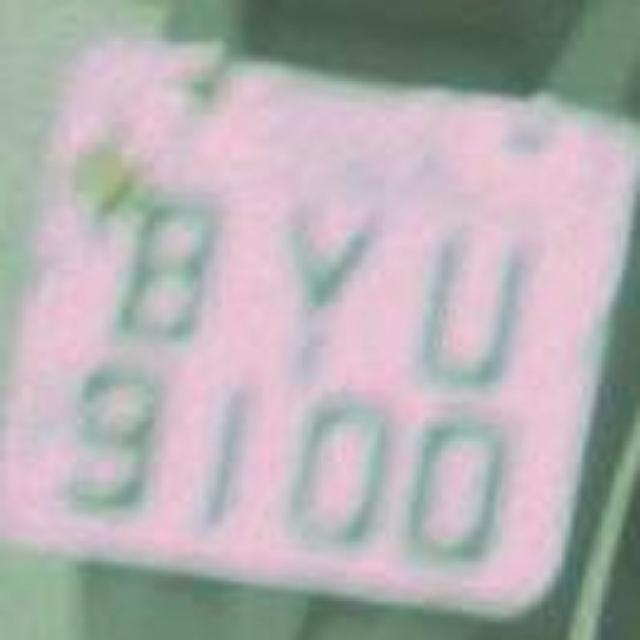0: (268, 380, 408, 565), (391, 392, 524, 580)
1: (172, 360, 280, 548)
9: (44, 332, 184, 520)
B: (80, 168, 240, 352)
U: (391, 204, 544, 396)
Y: (256, 188, 392, 372)
